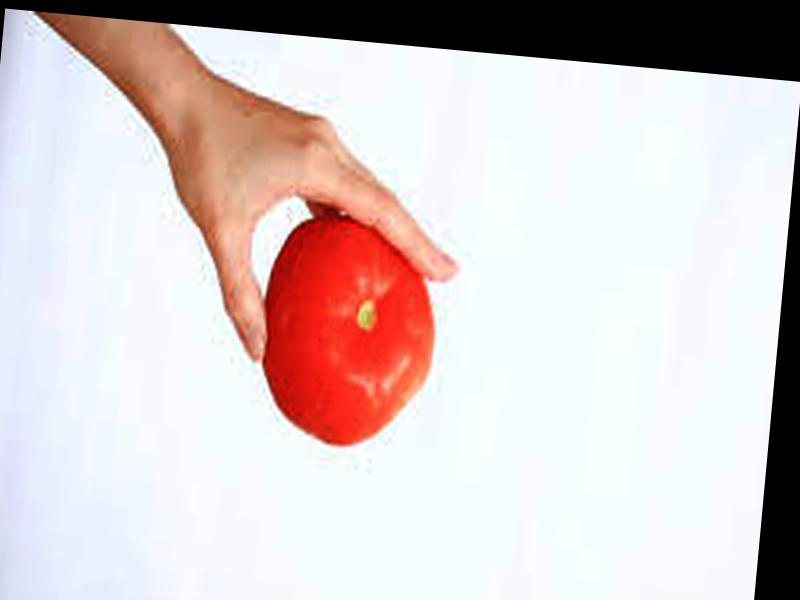Tomato: (253, 215, 444, 451)
